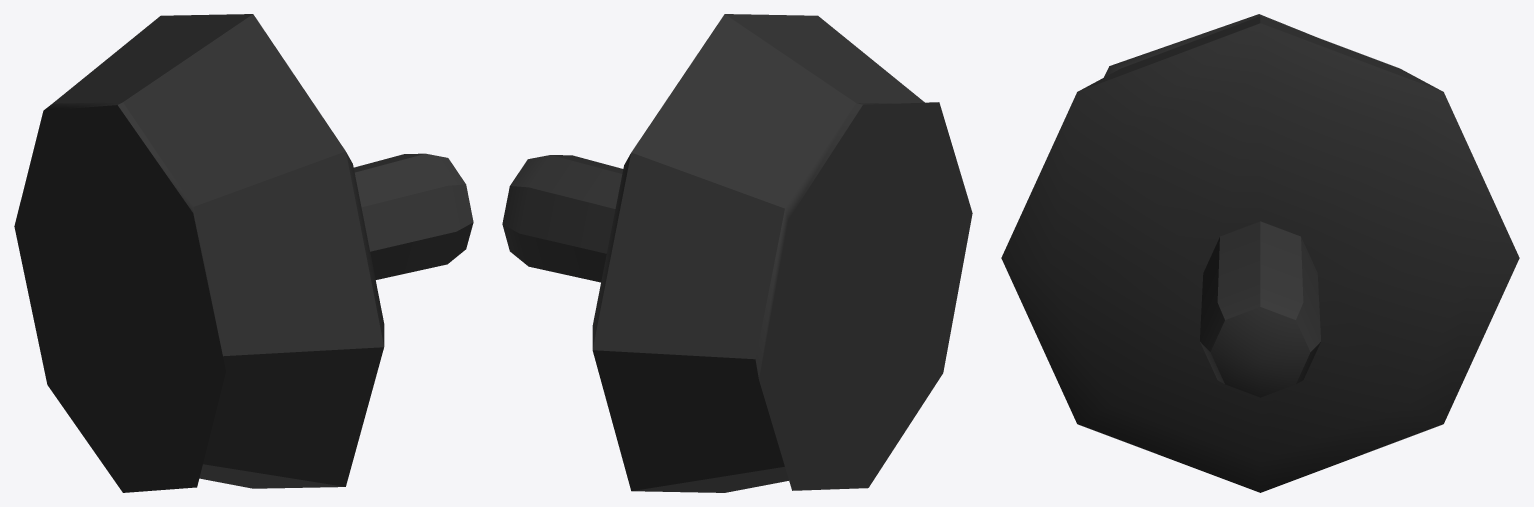
The model's file is Moteur_5_1.FBX.
3 renders of one model, left to right at view 1: azimuth 30°, elevation 25°; view 2: azimuth 150°, elevation 25°; view 3: azimuth 270°, elevation 25°, orthographic.
Parts seen in each view (by area): view 1: Sphere003; view 2: Sphere003; view 3: Sphere003.
Boxes of the visible parts, box(x1,y1,x2,y2) form: Sphere003: box(14, 14, 473, 492); Sphere003: box(502, 14, 972, 492); Sphere003: box(1001, 14, 1519, 492).
Size of the model in its own units: 17.78 by 23.07 by 23.07.
